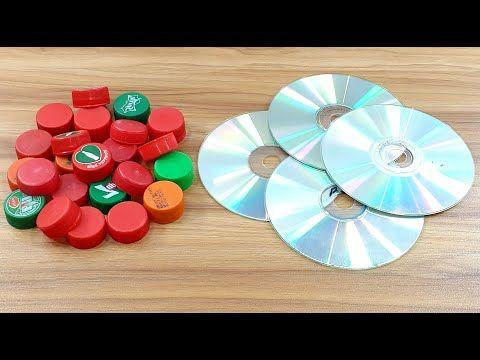HDPE: (142, 180, 186, 225), (34, 196, 80, 239), (107, 200, 150, 245), (3, 189, 45, 232), (17, 156, 59, 197), (67, 204, 106, 248), (72, 139, 113, 179), (153, 148, 194, 188), (75, 104, 113, 142), (113, 159, 152, 196), (147, 107, 187, 142), (111, 90, 154, 122), (48, 129, 94, 157), (88, 178, 129, 209), (53, 172, 90, 204), (36, 102, 74, 133), (14, 128, 52, 157), (109, 118, 146, 146), (69, 84, 111, 106)
PS: (267, 155, 426, 270), (322, 102, 477, 217), (267, 70, 406, 171), (199, 109, 322, 221)
